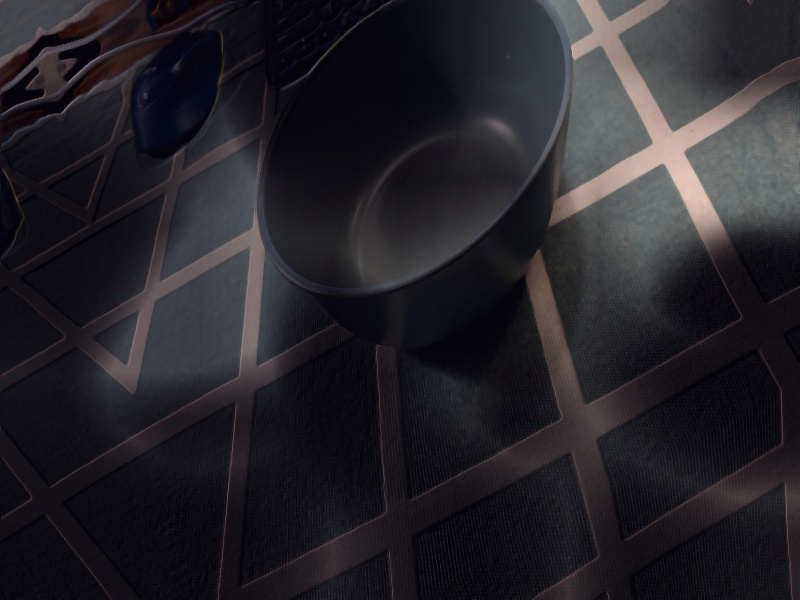bowl_big: (216, 0, 627, 432)
